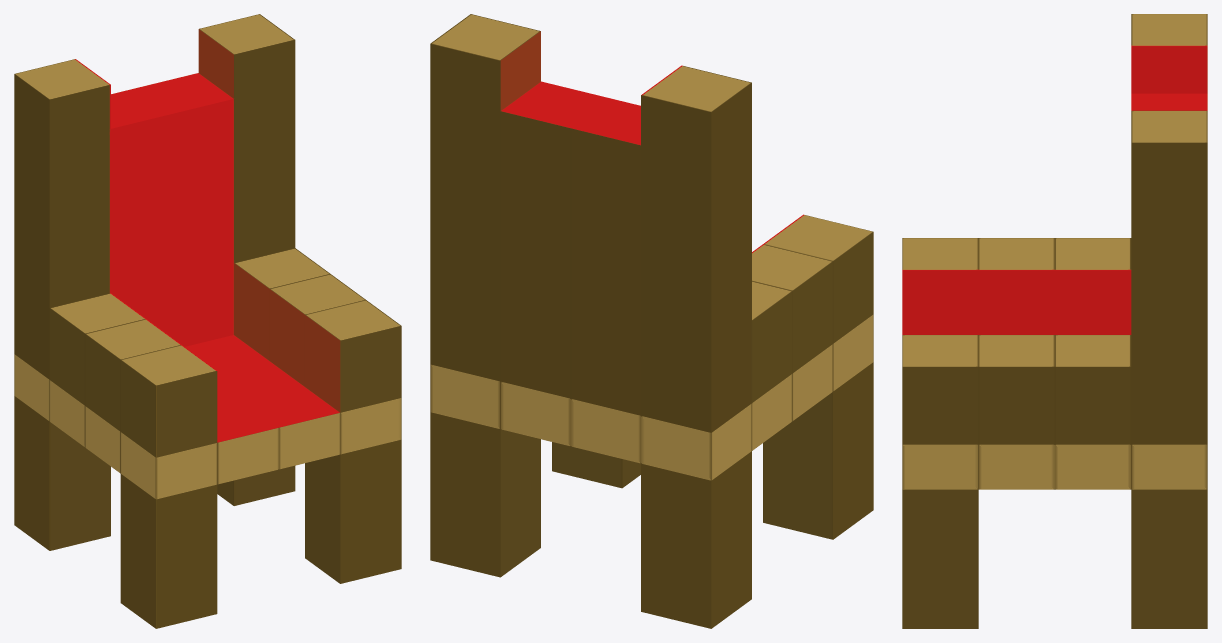
The model's file is Throne.glb.
3 views of the same model, side by side, from view 1: azimuth 30°, elevation 25°; view 2: azimuth 150°, elevation 25°; view 3: azimuth 270°, elevation 25° (orthographic). The views are drawn at different scales.
Visible parts, largest first — view 1: throne; view 2: throne; view 3: throne.
Boxes of the visible parts, bbox=[...] form: throne: bbox=[14, 14, 401, 628]; throne: bbox=[430, 14, 873, 628]; throne: bbox=[902, 14, 1207, 628].
Size of the model in its own units: 1.73 by 3.04 by 1.73.
Materials: 1 (1 with a texture image).
